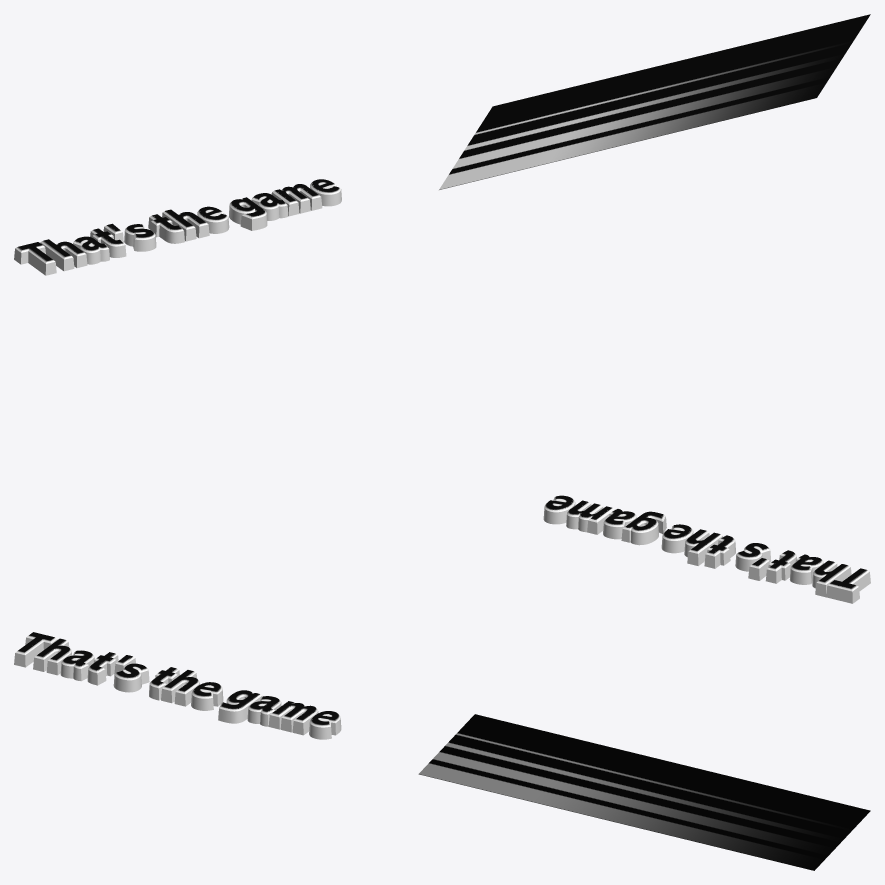
The model's file is bbl_game_set_model__game_set.glb.
The picture shows the model from 3 angles, top to bottom: view 1: azimuth 30°, elevation 25°; view 2: azimuth 150°, elevation 25°; view 3: azimuth 330°, elevation 25°; orthographic projection. The views are drawn at different scales.
Parts seen in each view (by area): view 1: polygon2, polygon1, polygon0; view 2: polygon0, polygon1; view 3: polygon2, polygon0, polygon1.
Boxes of the visible parts, <box> form: polygon2: <box>439,14,870,189</box>; polygon1: <box>14,185,341,275</box>; polygon0: <box>15,179,340,263</box>; polygon0: <box>544,495,869,591</box>; polygon1: <box>543,499,870,603</box>; polygon2: <box>418,714,870,870</box>; polygon0: <box>15,632,340,727</box>; polygon1: <box>14,637,341,739</box>.
Size of the model in its own units: 61.36 by 5 by 3.92.
Materials: 3 (3 with a texture image).
